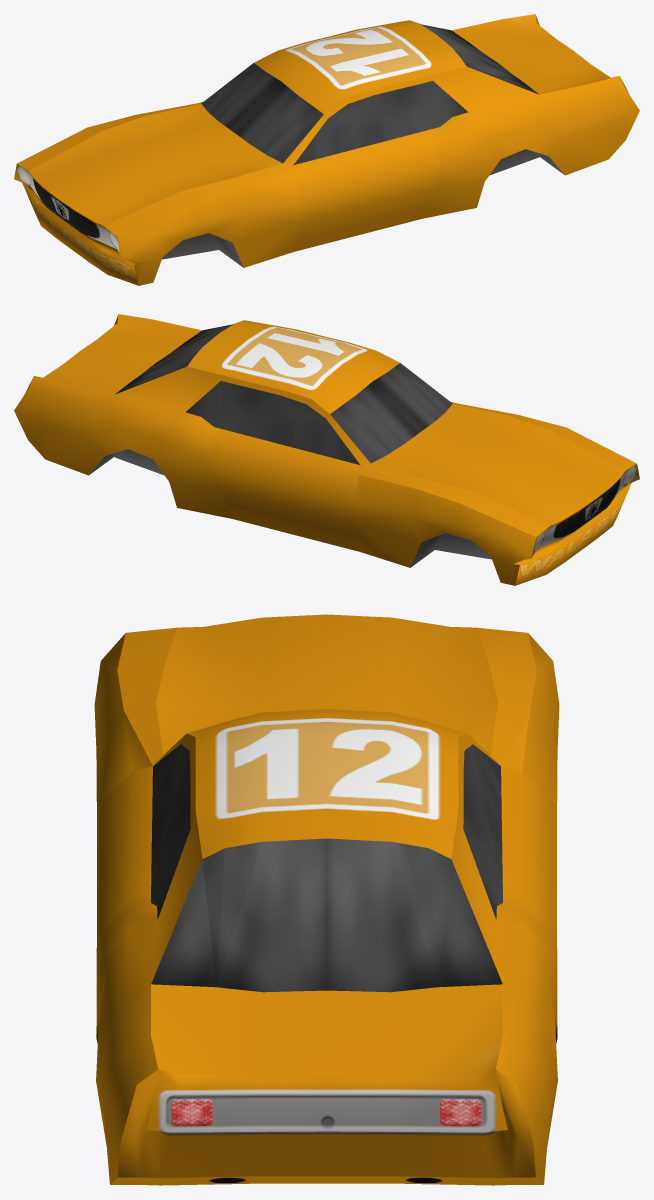
The model's file is mustang.glb.
3 renders of one model, top to bottom at view 1: azimuth 30°, elevation 25°; view 2: azimuth 150°, elevation 25°; view 3: azimuth 270°, elevation 25°, orthographic. The views are drawn at different scales.
Visible parts, largest first — view 1: obj0, obj2, obj1; view 2: obj0, obj2, obj1; view 3: obj0, obj2, obj1.
Boxes of the visible parts, x1=… form: obj0: x1=14, y1=14, x2=639, y2=285; obj2: x1=201, y1=23, x2=538, y2=165; obj1: x1=162, y1=149, x2=564, y2=267; obj0: x1=14, y1=314, x2=639, y2=585; obj2: x1=115, y1=323, x2=452, y2=465; obj1: x1=89, y1=449, x2=491, y2=567; obj0: x1=94, y1=614, x2=559, y2=1184; obj2: x1=151, y1=744, x2=502, y2=992; obj1: x1=96, y1=1020, x2=557, y2=1185.
Size of what is drawn, in the model's own units: 4.07 by 0.9974 by 1.54.
Materials: 3 (3 with a texture image).
